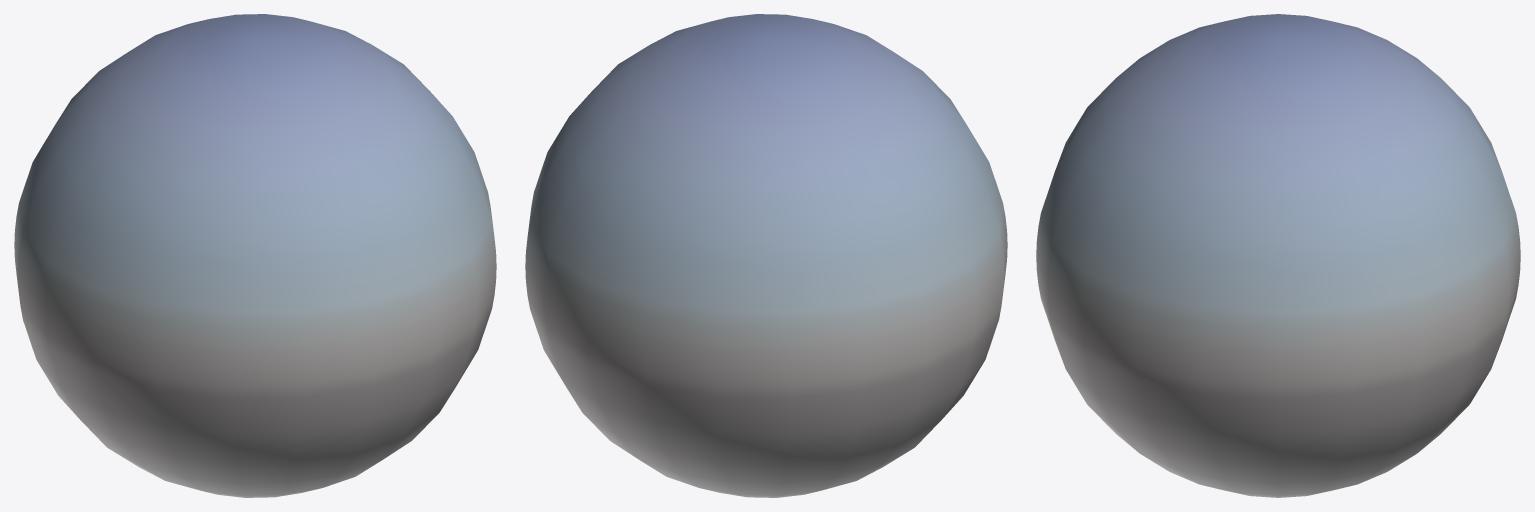
File: S_Sky_Sphere_Blue.fbx
3 views of the same model, side by side, from view 1: azimuth 30°, elevation 25°; view 2: azimuth 150°, elevation 25°; view 3: azimuth 270°, elevation 25° (orthographic).
Visible parts, largest first — view 1: Sky_Sphere_Blue_GEO; view 2: Sky_Sphere_Blue_GEO; view 3: Sky_Sphere_Blue_GEO.
Boxes of the visible parts, bbox=[...] form: Sky_Sphere_Blue_GEO: bbox=[14, 14, 496, 497]; Sky_Sphere_Blue_GEO: bbox=[525, 14, 1007, 497]; Sky_Sphere_Blue_GEO: bbox=[1036, 14, 1520, 497].
Bounding box in the file's own units: 600 × 600 × 600.
